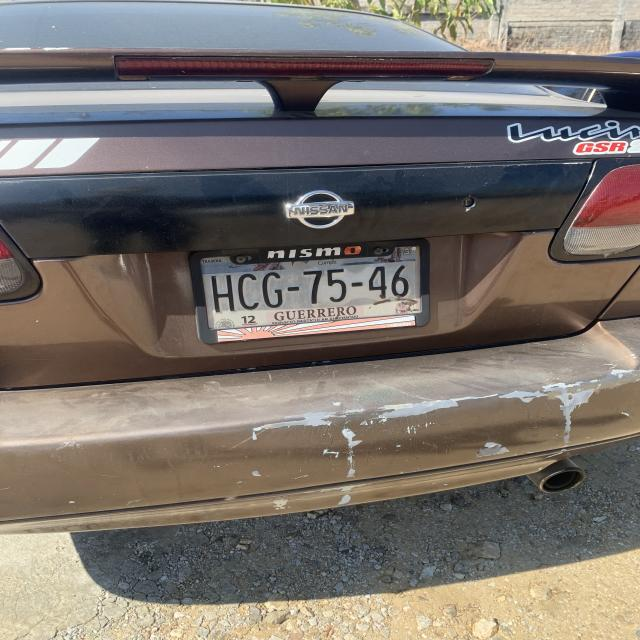placa: (202, 264, 416, 311)
